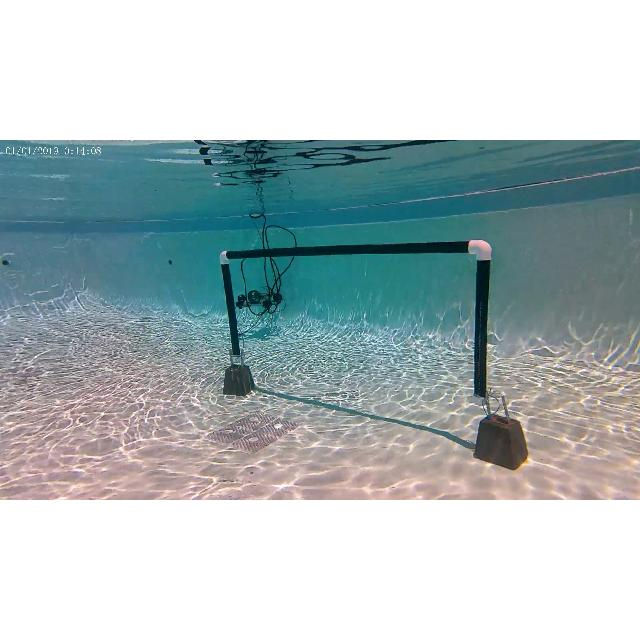prequal gate: (220, 239, 492, 406)
prequal gate leg l: (218, 251, 258, 391)
prequal gate leg r: (462, 238, 530, 468)
